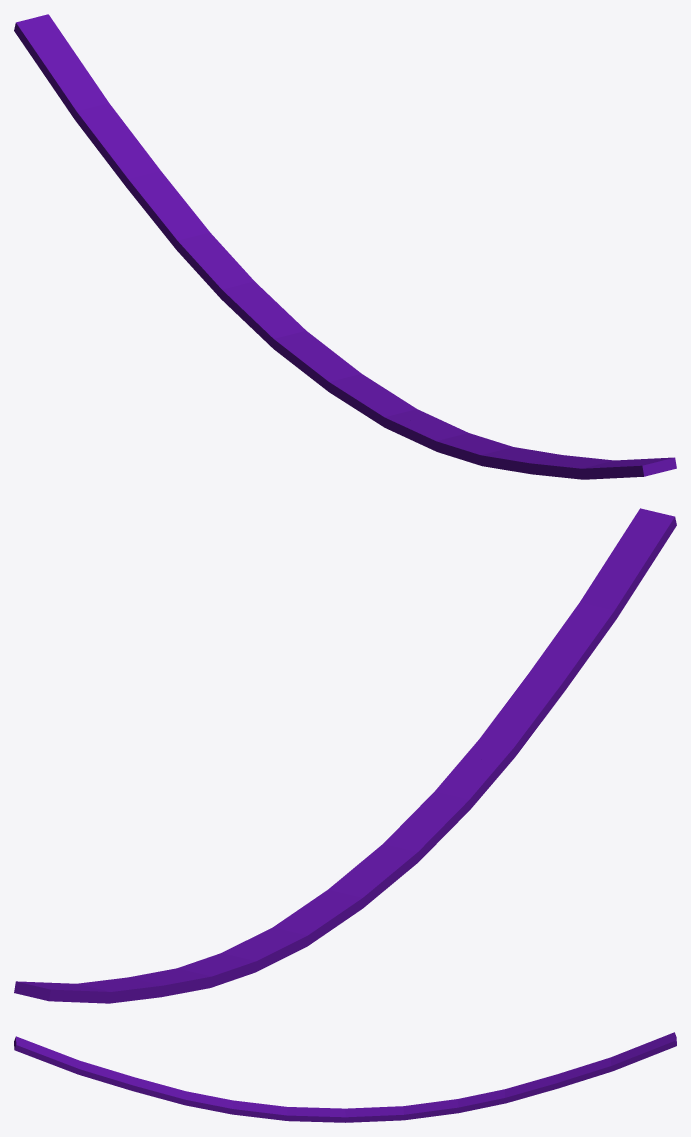
Rendered from Tape_24_chunks.fbx.
3 renders of one model, top to bottom at view 1: azimuth 30°, elevation 25°; view 2: azimuth 150°, elevation 25°; view 3: azimuth 270°, elevation 25°, orthographic. The views are drawn at different scales.
Parts seen in each view (by area): view 1: Tape_24_0, Tape_24_3, Tape_24_2, Tape_24_1; view 2: Tape_24_3, Tape_24_0, Tape_24_2, Tape_24_1; view 3: Tape_24_0, Tape_24_3, Tape_24_1, Tape_24_2.
Boxes of the visible parts, x1,y1,x2,y2 form: Tape_24_0: [14, 14, 339, 378]; Tape_24_3: [482, 443, 676, 479]; Tape_24_2: [312, 370, 509, 470]; Tape_24_1: [322, 357, 499, 443]; Tape_24_3: [467, 508, 676, 764]; Tape_24_0: [14, 904, 348, 1003]; Tape_24_2: [345, 720, 542, 919]; Tape_24_1: [307, 754, 472, 904]; Tape_24_0: [359, 1032, 676, 1121]; Tape_24_3: [14, 1036, 205, 1103]; Tape_24_1: [181, 1100, 371, 1122]; Tape_24_2: [172, 1087, 360, 1110].
Bounding box in the file's own units: 35.59 × 103 × 777.
